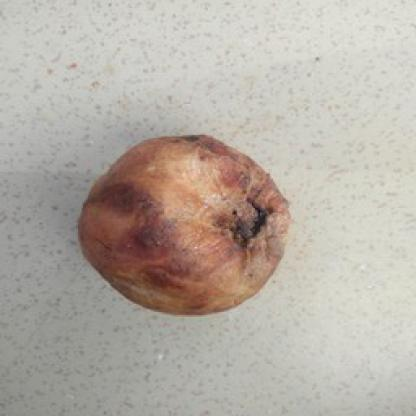guava_rotten: (65, 127, 291, 318)
